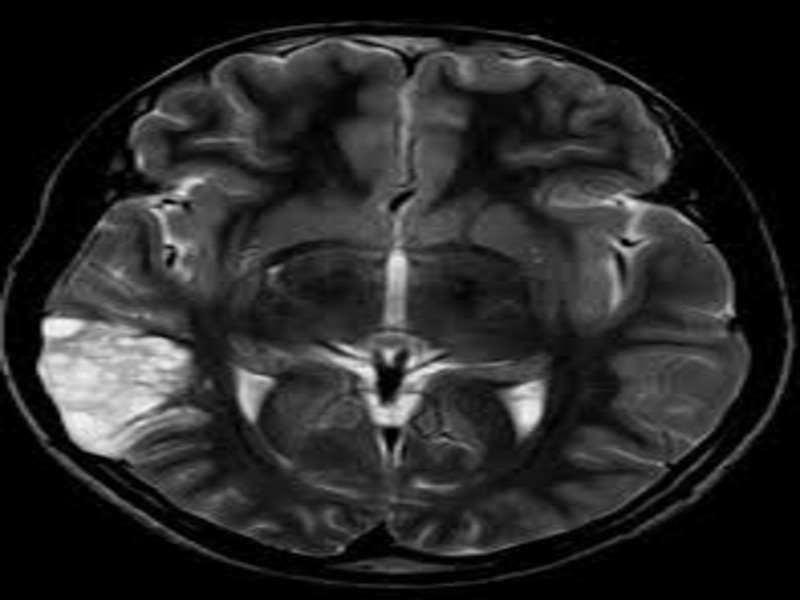tumor: (37, 306, 202, 455)
